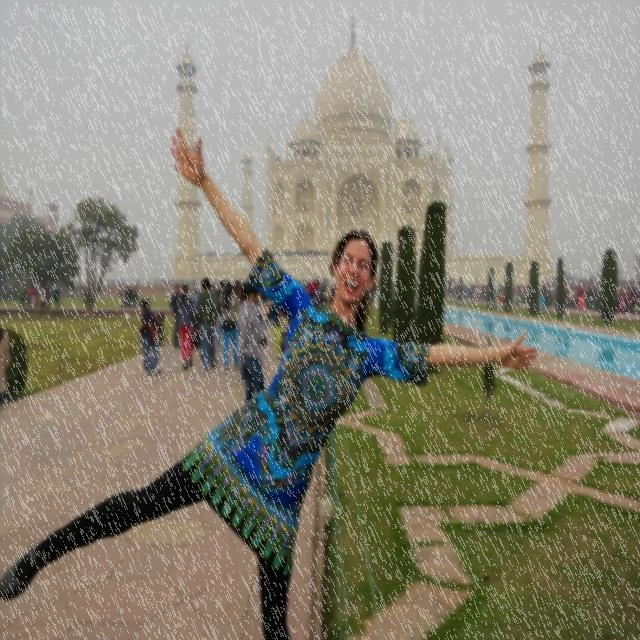pessoa: (0, 125, 538, 639), (235, 280, 268, 404), (443, 279, 524, 309), (194, 276, 218, 374), (217, 276, 240, 374), (136, 297, 164, 377), (176, 282, 197, 372), (136, 309, 163, 376), (582, 282, 630, 314), (106, 274, 232, 286), (187, 284, 205, 366), (198, 248, 336, 258), (296, 276, 333, 310), (146, 310, 166, 372), (0, 323, 11, 432), (254, 290, 272, 350), (168, 282, 184, 348), (212, 279, 226, 354), (376, 245, 436, 258), (553, 282, 578, 312), (272, 303, 284, 361), (280, 306, 292, 358), (232, 276, 246, 302), (28, 282, 39, 310), (576, 284, 586, 312), (547, 281, 556, 308), (36, 285, 46, 309), (51, 284, 60, 310), (118, 285, 128, 308), (44, 284, 52, 312), (125, 284, 134, 308), (538, 282, 546, 308), (23, 287, 32, 310), (132, 284, 140, 308), (123, 284, 130, 310), (18, 290, 27, 310), (544, 282, 550, 310), (630, 287, 636, 313)
